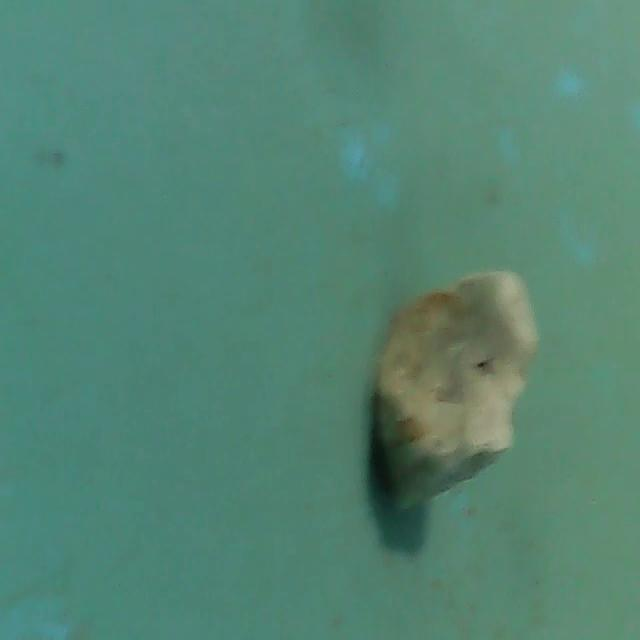rock: (368, 265, 539, 520)
